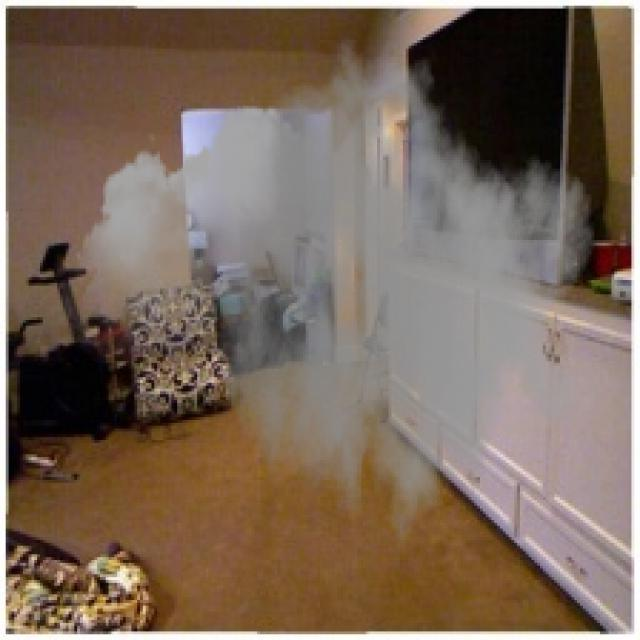smoke: (74, 37, 597, 574)
